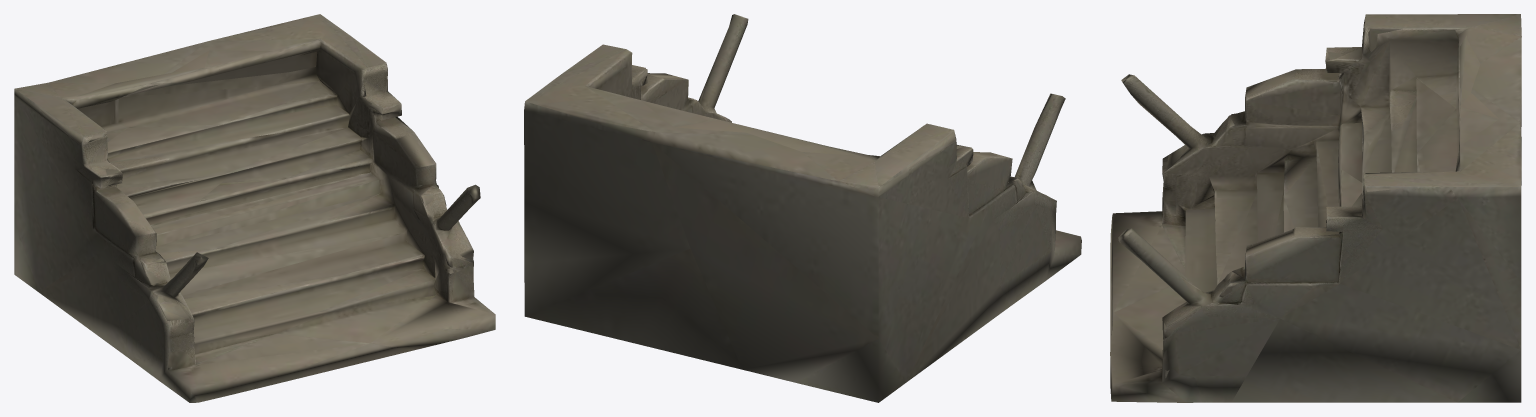
Rendered from stair_block.glb.
3 renders of one model, left to right at view 1: azimuth 30°, elevation 25°; view 2: azimuth 150°, elevation 25°; view 3: azimuth 270°, elevation 25°, orthographic. The views are drawn at different scales.
Size of the model in its own units: 1.89 by 1.1 by 1.9.
1 material, 1 textured.
